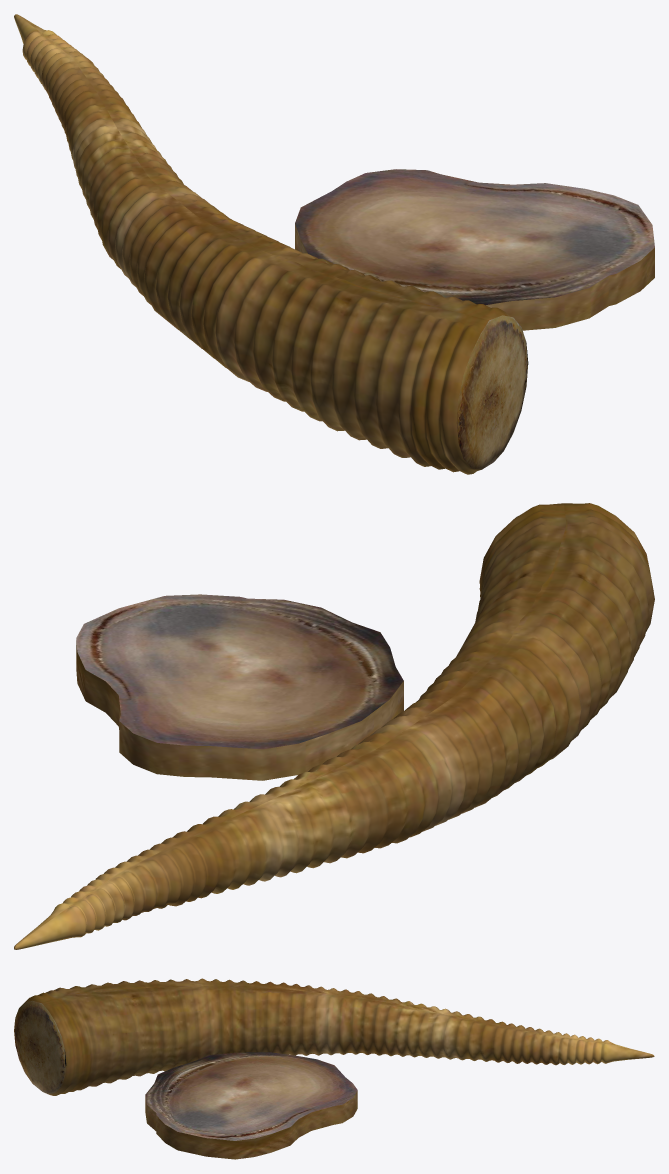
File: lingyangjiao.FBX
The picture shows the model from 3 angles, top to bottom: view 1: azimuth 30°, elevation 25°; view 2: azimuth 150°, elevation 25°; view 3: azimuth 270°, elevation 25°; orthographic projection. The views are drawn at different scales.
Visible parts, largest first — view 1: Cylinder001, Line001; view 2: Cylinder001, Line001; view 3: Cylinder001, Line001.
Part boxes in pixels (x1,y1,x2,y2): Cylinder001: [14, 14, 528, 474]; Line001: [295, 169, 654, 330]; Cylinder001: [14, 503, 654, 949]; Line001: [76, 594, 403, 780]; Cylinder001: [14, 978, 654, 1095]; Line001: [145, 1052, 357, 1159].
Size of the model in its own units: 38.87 by 12.35 by 78.41.
Materials: 1 (1 with a texture image).
